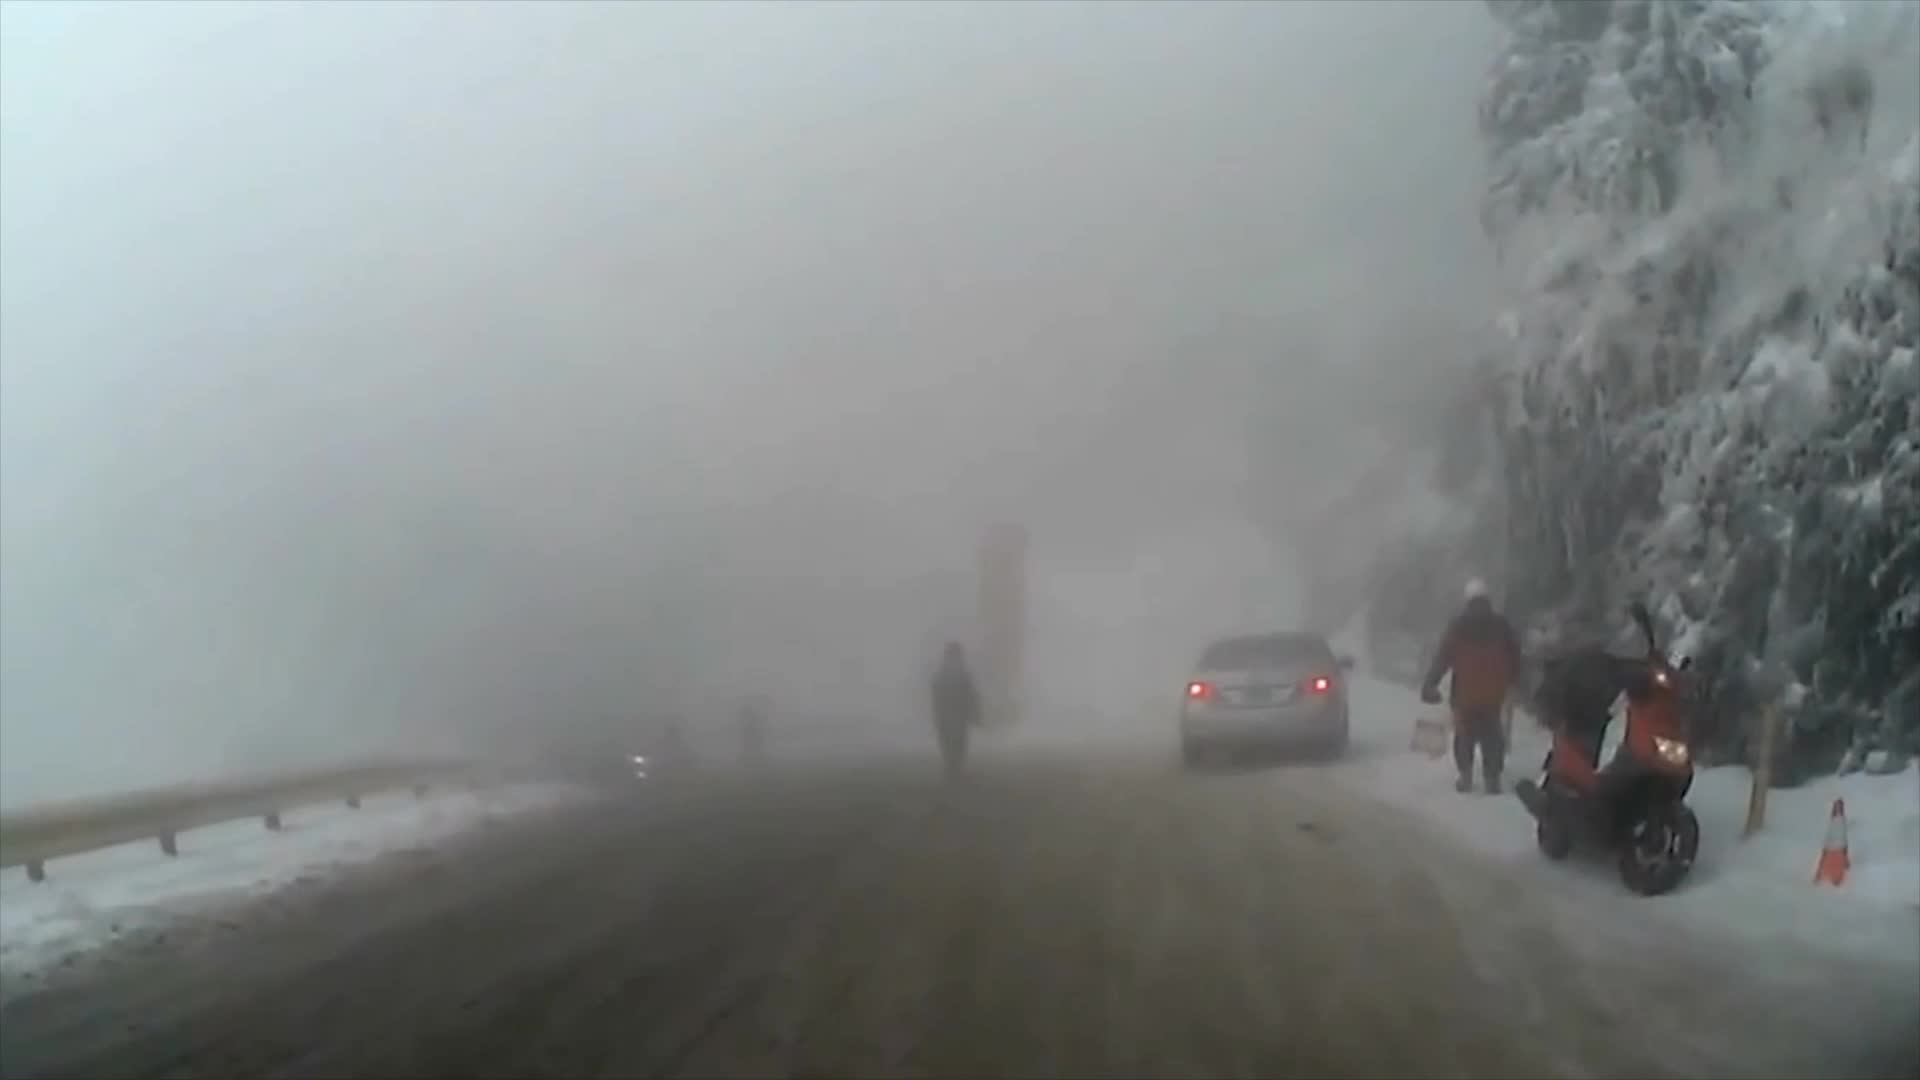pedestrian: (1425, 580, 1530, 799), (930, 640, 978, 788)
vehicle: (1180, 629, 1357, 772)
